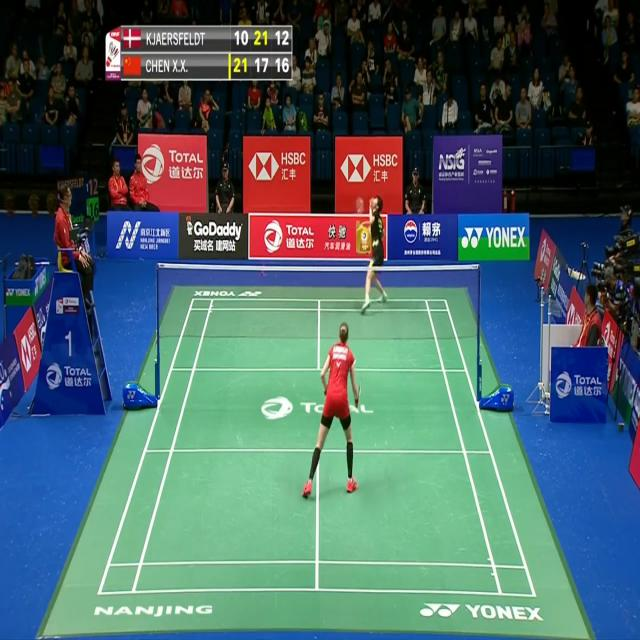Player1: (302, 319, 364, 501)
Player2: (358, 187, 392, 321)
